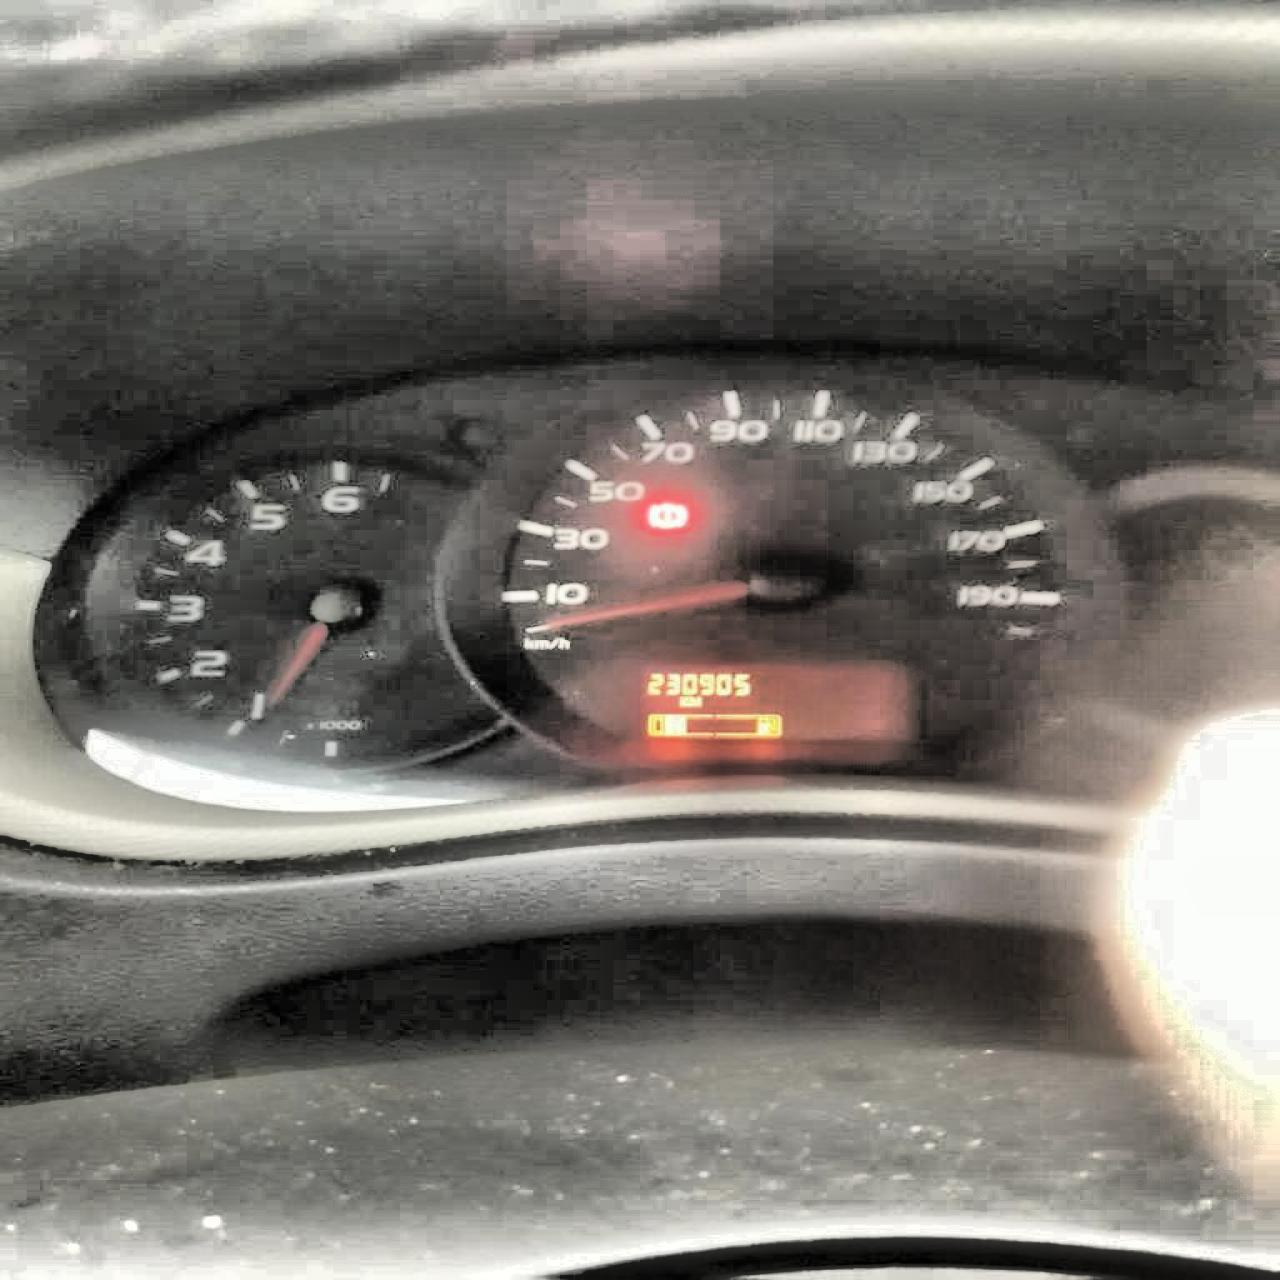0: (713, 672, 731, 696), (680, 670, 699, 695)
2: (644, 672, 662, 696)
3: (662, 672, 680, 696)
5: (731, 672, 751, 696)
9: (696, 672, 712, 696)
X: (676, 696, 688, 708), (688, 696, 700, 706)
odometer: (625, 659, 915, 747)
